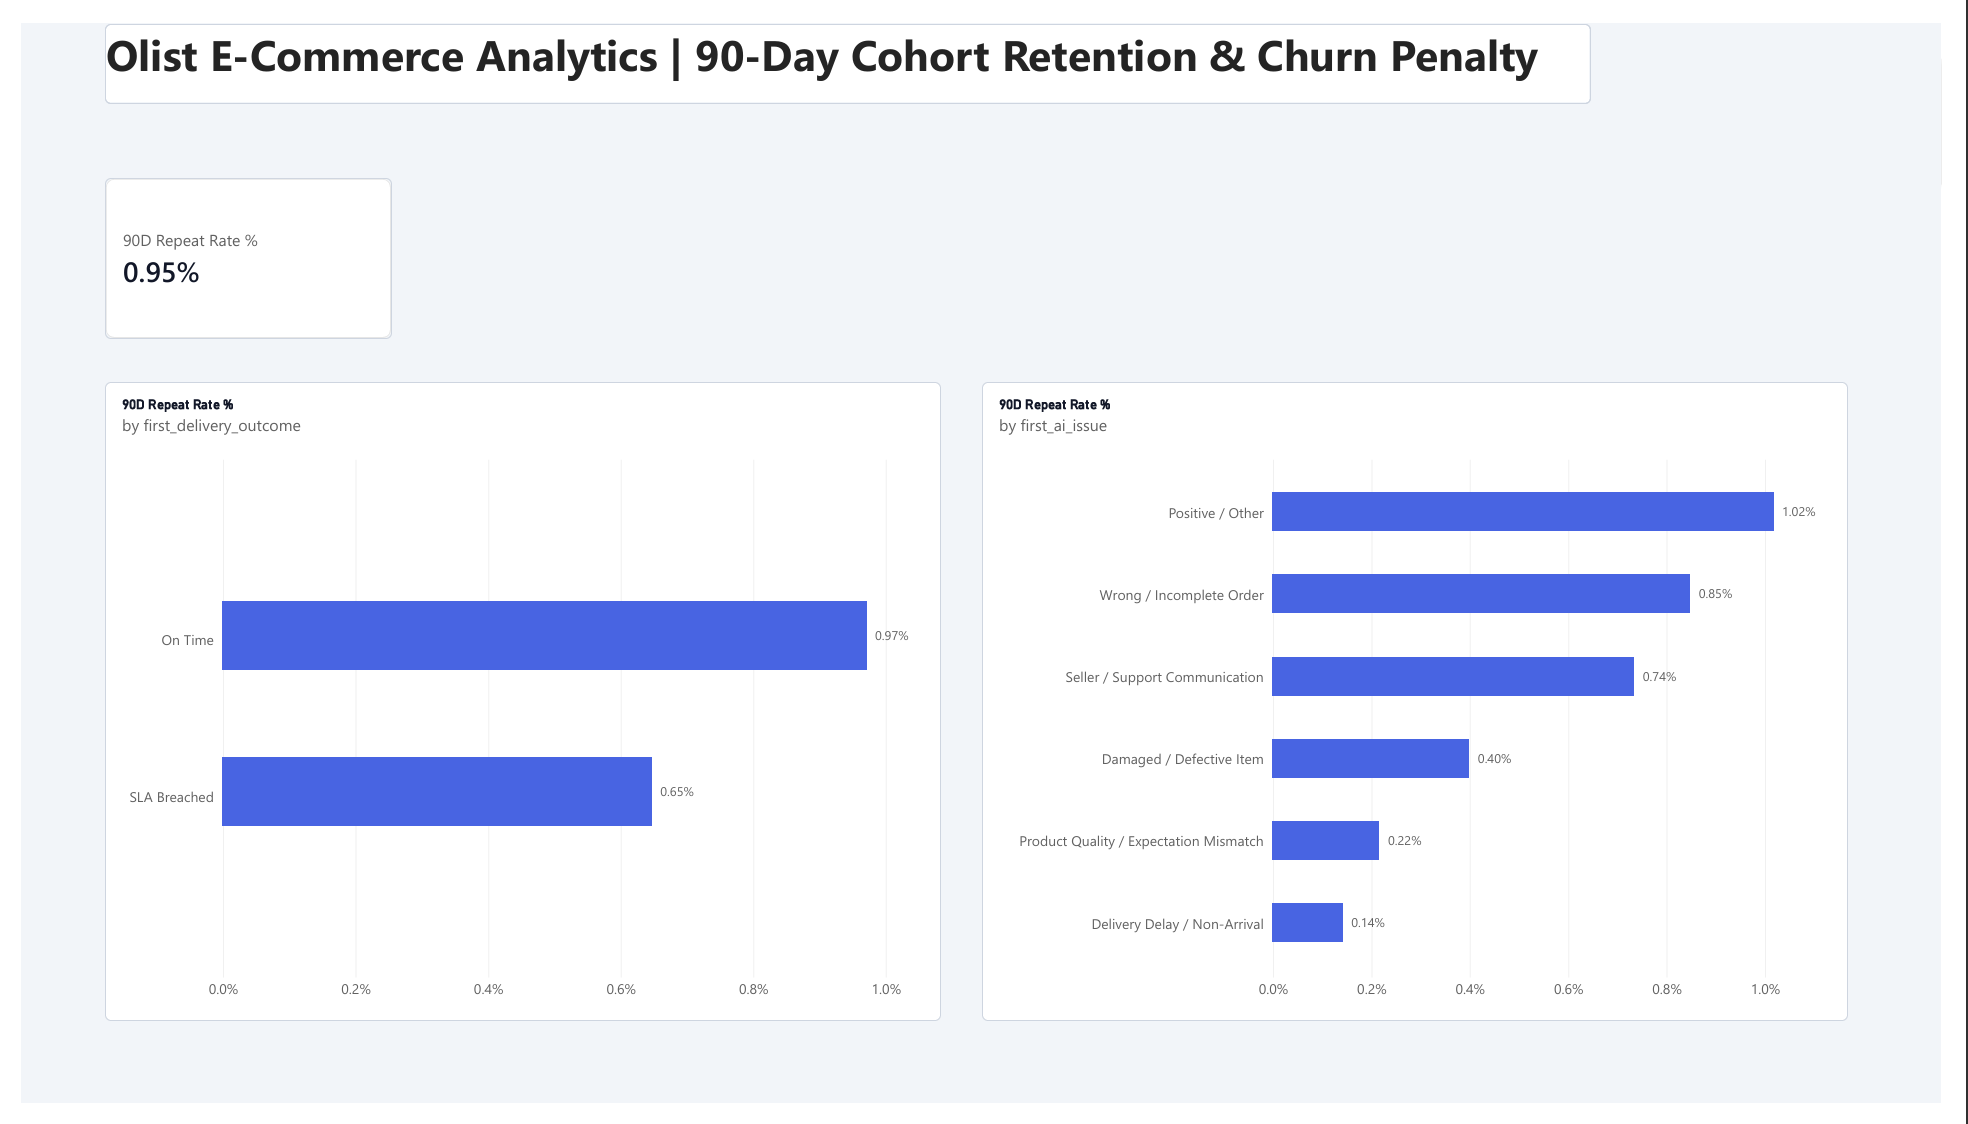

The dashboard page shown, as its layout file describes it:
{"tool":"powerbi","page":{"name":"90-Day Cohort Retention","canvas":[1920,1080],"ordinal":2},"visuals":[{"type":"cardVisual","fields":{"Data":["_Measures.90D Repeat Rate %"]},"box":[82.7,153.9,287.1,160.8],"z":0},{"type":"clusteredBarChart","fields":{"Category":["vw_pbi_cohort_retention.first_delivery_outcome"],"Y":["_Measures.90D Repeat Rate %"]},"box":[82.7,358.3,836,638.5],"z":1000},{"type":"clusteredBarChart","fields":{"Category":["vw_pbi_cohort_retention.first_ai_issue"],"Y":["_Measures.90D Repeat Rate %"]},"box":[960,358.3,865.8,638.5],"z":2000},{"type":"shape","box":[82.7,0,1485.9,80.4],"z":2001},{"type":"textbox","box":[82.7,0,1485.9,80.4],"z":2002}]}

Visuals, with their boxes in screenshot pixels (x1, y1, x2, y2), scaled from the page's 1920x1080 canvas onto the 1968x1124 screenshot:
cardVisual - _Measures.90D Repeat Rate %: locate(85, 160, 379, 328)
clusteredBarChart - vw_pbi_cohort_retention.first_delivery_outcome x _Measures.90D Repeat Rate %: locate(85, 373, 942, 1037)
clusteredBarChart - vw_pbi_cohort_retention.first_ai_issue x _Measures.90D Repeat Rate %: locate(984, 373, 1871, 1037)
shape: locate(85, 0, 1608, 84)
textbox: locate(85, 0, 1608, 84)
